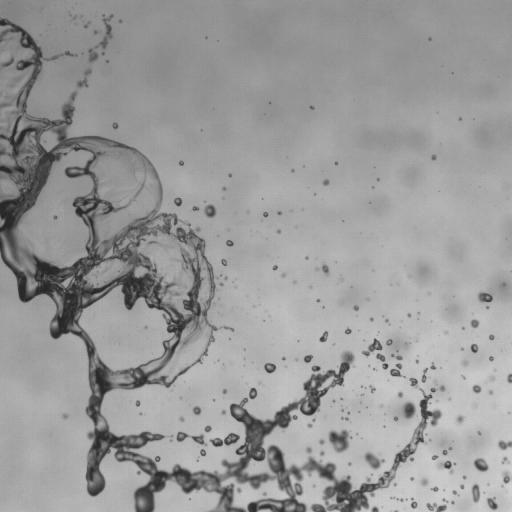droplet: (328, 429, 351, 452), (362, 339, 382, 356), (364, 452, 384, 469), (402, 401, 415, 418), (436, 460, 453, 473), (473, 458, 488, 471), (204, 204, 216, 217), (478, 292, 492, 302), (498, 440, 511, 450), (502, 470, 511, 484), (264, 363, 276, 373), (487, 497, 497, 509), (88, 49, 97, 61), (319, 332, 327, 342), (174, 197, 182, 206), (472, 385, 481, 393), (322, 264, 328, 275), (470, 319, 478, 327), (470, 344, 478, 352), (193, 406, 201, 414), (411, 498, 417, 508), (304, 355, 312, 362), (456, 415, 463, 423), (204, 425, 211, 432), (501, 457, 509, 463), (226, 240, 233, 246), (421, 478, 427, 485), (221, 259, 227, 265), (386, 339, 392, 345), (323, 179, 328, 185), (345, 328, 351, 333), (430, 363, 435, 369), (439, 385, 444, 391), (200, 449, 205, 455), (432, 486, 438, 491), (489, 334, 494, 339), (319, 439, 324, 444), (192, 206, 198, 210), (370, 385, 374, 391), (113, 123, 117, 128), (263, 212, 268, 216), (273, 265, 277, 270), (354, 305, 358, 310), (489, 356, 493, 361), (462, 361, 467, 365), (398, 392, 402, 397), (136, 401, 140, 406), (62, 414, 67, 418), (432, 455, 437, 459), (452, 490, 457, 494), (432, 155, 436, 159), (179, 161, 183, 165), (490, 376, 494, 380), (222, 389, 226, 393), (307, 423, 311, 427), (320, 451, 324, 455), (443, 450, 447, 454), (342, 417, 347, 420), (85, 23, 88, 27), (277, 229, 280, 233), (222, 410, 225, 414), (180, 417, 183, 421), (398, 498, 402, 501), (310, 106, 313, 109), (53, 216, 56, 219), (489, 390, 492, 393), (394, 417, 397, 420), (463, 475, 466, 478), (460, 485, 463, 488), (228, 174, 231, 176), (223, 187, 225, 190), (278, 211, 280, 214), (282, 274, 285, 276), (408, 314, 411, 316), (370, 318, 373, 320), (411, 477, 413, 480), (451, 501, 454, 503), (94, 31, 96, 33), (335, 162, 337, 164), (163, 246, 165, 248), (103, 270, 105, 272), (225, 277, 227, 279), (220, 283, 222, 285), (405, 343, 407, 345), (283, 357, 285, 359), (416, 360, 418, 362), (478, 432, 480, 434), (348, 463, 350, 465)
ligament: (0, 17, 441, 511), (99, 15, 112, 48), (176, 432, 206, 445), (210, 433, 239, 446), (77, 69, 91, 87), (390, 355, 402, 376), (426, 499, 447, 511), (376, 353, 388, 369), (471, 484, 480, 502), (0, 58, 13, 68), (421, 369, 427, 382), (0, 102, 11, 108), (148, 240, 160, 245), (223, 326, 233, 331), (15, 75, 23, 81), (507, 373, 511, 383), (63, 51, 72, 55), (394, 510, 397, 511)
